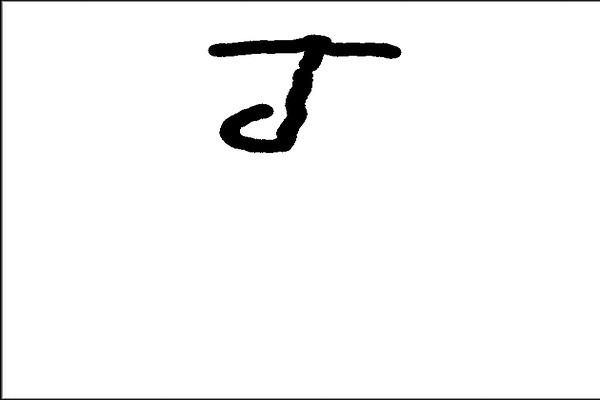J: (202, 25, 408, 160)
